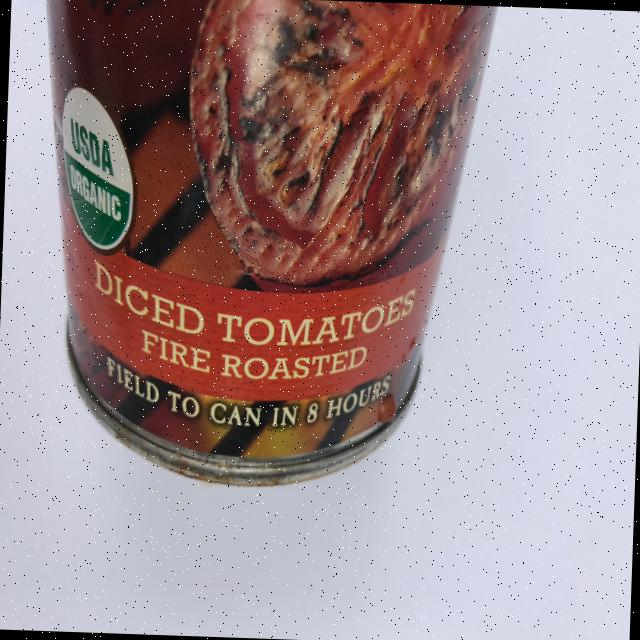metal: (27, 0, 497, 494)
